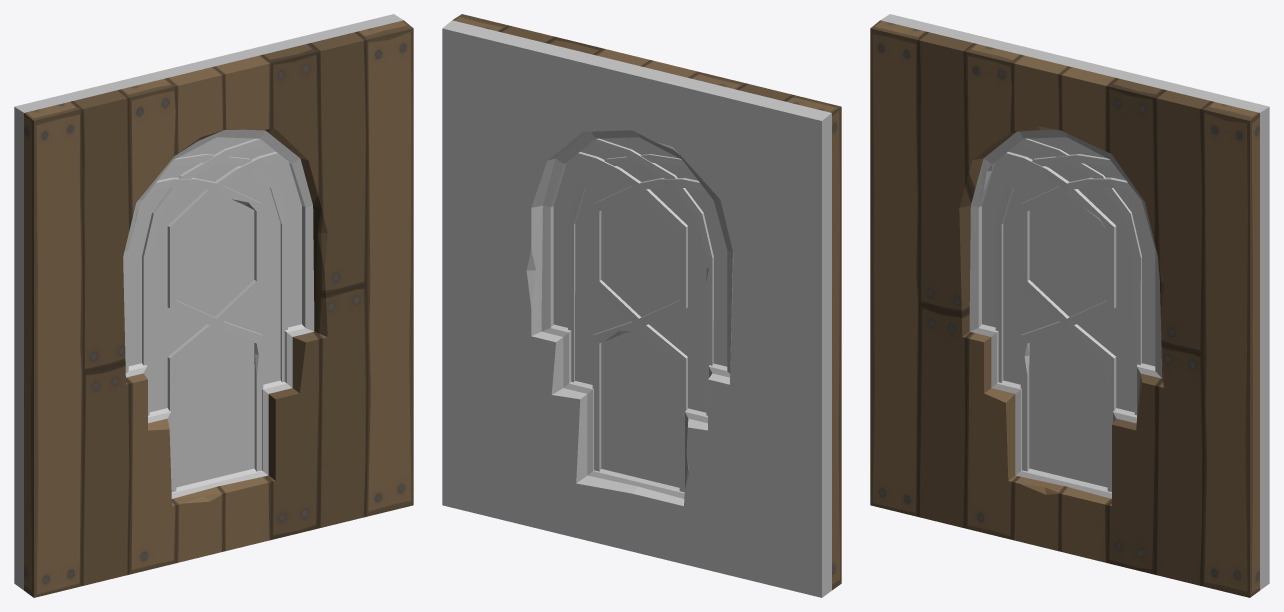
File: SM_Bld_Deco_Wall_Window_04.fbx
The picture shows the model from 3 angles, left to right: view 1: azimuth 30°, elevation 25°; view 2: azimuth 150°, elevation 25°; view 3: azimuth 330°, elevation 25°; orthographic projection.
Visible parts, largest first — view 1: SM_Bld_Deco_Wall_Window_04; view 2: SM_Bld_Deco_Wall_Window_04; view 3: SM_Bld_Deco_Wall_Window_04.
Part boxes in pixels (left/top/right/bottom): SM_Bld_Deco_Wall_Window_04: left=14, top=14, right=413, bottom=597; SM_Bld_Deco_Wall_Window_04: left=442, top=14, right=841, bottom=597; SM_Bld_Deco_Wall_Window_04: left=870, top=14, right=1269, bottom=597.
Bounding box in the file's own units: 250 × 301 × 22.5.
